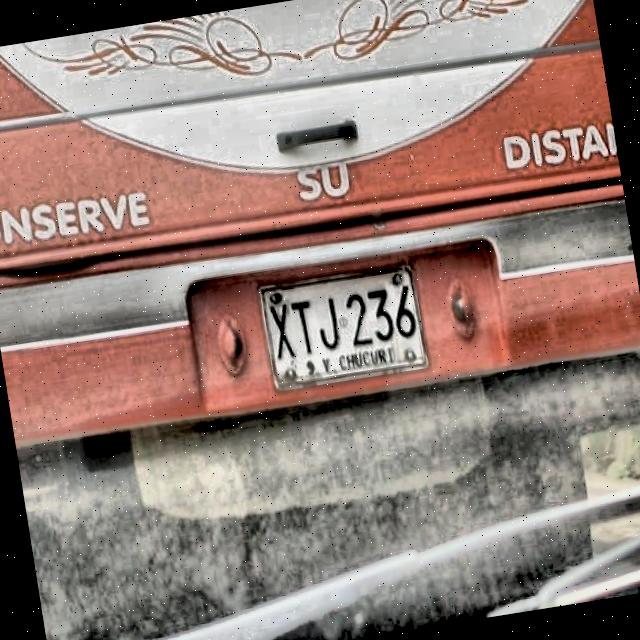2: (342, 291, 376, 350)
3: (364, 287, 397, 344)
6: (388, 283, 420, 341)
J: (312, 294, 346, 354)
T: (290, 299, 319, 359)
X: (267, 303, 297, 361)
